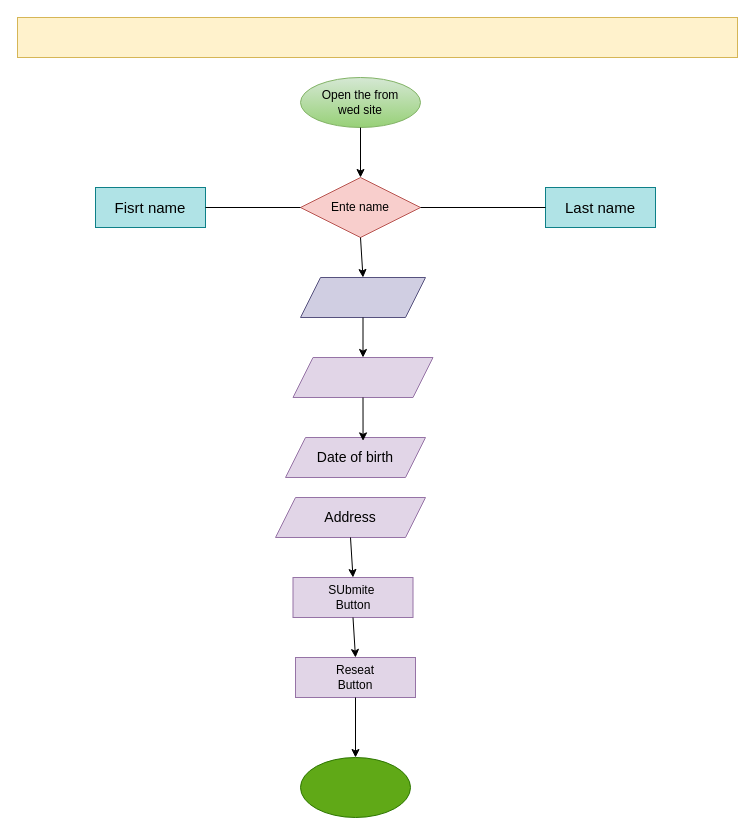
Image size: 755x835. Some labels were removed from this diagram. Each missing label, with the centre of its shape:
"Close the form wed site" belongs at [355,787].
"Enter your email" belongs at [363,297].
"Password" belongs at [362,377].
"WED APPLICATION LIFE CYCLE FLOW CHART" belongs at [377,37].
